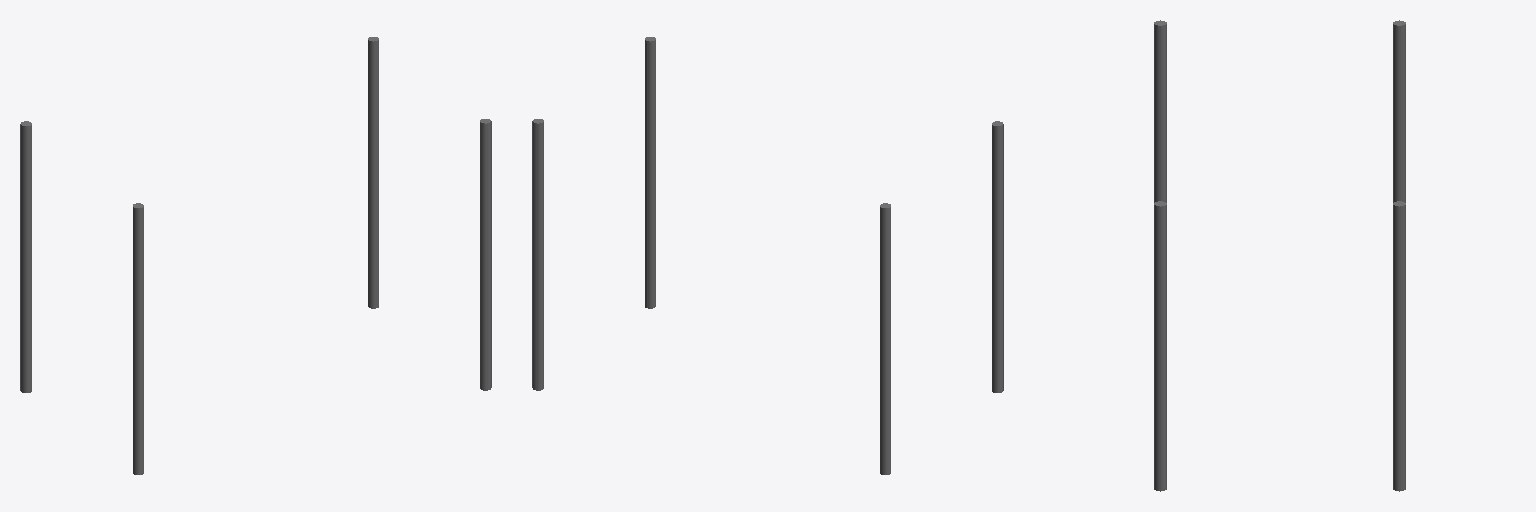
robot.urdf — table_legs:
<?xml version="1.0" ?>
<!-- Las 4 patas cilíndricas de la mesa. Separadas del tablero para aplicar materiales independientes. -->
<robot name="table_legs">
	<link name="patas">
		<inertial>
			<origin rpy="0 0 0" xyz="0 0 0.5"/>
			<mass value="20.0"/>
			<inertia ixx="2.0" ixy="0.0" ixz="0.0" iyy="2.0" iyz="0.0" izz="2.0"/>
		</inertial>

		<!-- Pata delantera derecha (+X, +Y) -->
		<collision>
			<origin rpy="0 0 0" xyz="0.68 0.38 0.5"/>
			<geometry>
				<cylinder radius="0.02" length="1.0"/>
			</geometry>
		</collision>
		<visual>
			<origin rpy="0 0 0" xyz="0.68 0.38 0.5"/>
			<geometry>
				<cylinder radius="0.02" length="1.0"/>
			</geometry>
			<material name="patas_mat">
				<color rgba="0.5 0.5 0.5 1.0"/>
			</material>
		</visual>

		<!-- Pata delantera izquierda (+X, -Y) -->
		<collision>
			<origin rpy="0 0 0" xyz="0.68 -0.38 0.5"/>
			<geometry>
				<cylinder radius="0.02" length="1.0"/>
			</geometry>
		</collision>
		<visual>
			<origin rpy="0 0 0" xyz="0.68 -0.38 0.5"/>
			<geometry>
				<cylinder radius="0.02" length="1.0"/>
			</geometry>
			<material name="patas_mat">
				<color rgba="0.5 0.5 0.5 1.0"/>
			</material>
		</visual>

		<!-- Pata trasera izquierda (-X, -Y) -->
		<collision>
			<origin rpy="0 0 0" xyz="-0.68 -0.38 0.5"/>
			<geometry>
				<cylinder radius="0.02" length="1.0"/>
			</geometry>
		</collision>
		<visual>
			<origin rpy="0 0 0" xyz="-0.68 -0.38 0.5"/>
			<geometry>
				<cylinder radius="0.02" length="1.0"/>
			</geometry>
			<material name="patas_mat">
				<color rgba="0.5 0.5 0.5 1.0"/>
			</material>
		</visual>

		<!-- Pata trasera derecha (-X, +Y) -->
		<collision>
			<origin rpy="0 0 0" xyz="-0.68 0.38 0.5"/>
			<geometry>
				<cylinder radius="0.02" length="1.0"/>
			</geometry>
		</collision>
		<visual>
			<origin rpy="0 0 0" xyz="-0.68 0.38 0.5"/>
			<geometry>
				<cylinder radius="0.02" length="1.0"/>
			</geometry>
			<material name="patas_mat">
				<color rgba="0.5 0.5 0.5 1.0"/>
			</material>
		</visual>
	</link>
</robot>

--- What the picture shows (computed from the rendered views, not written in the file) ---
3 views of the same robot in one strip: view 1: azimuth 30°, elevation 25°; view 2: azimuth 150°, elevation 25°; view 3: azimuth 270°, elevation 25° (orthographic).
Model table_legs with 1 links and 0 joints (none), rooted at patas, posed all joints at 0.
Links seen in each view (by area): view 1: patas; view 2: patas; view 3: patas.
Boxes of the visible links, left/top/right/bottom form: patas: left=20, top=37, right=491, bottom=474; patas: left=532, top=37, right=1003, bottom=474; patas: left=1154, top=20, right=1405, bottom=491.
Size in the robot's own frame: 1.4 by 0.8 by 1 metres.
Geometry: primitives only (box / cylinder / sphere), no mesh files.
